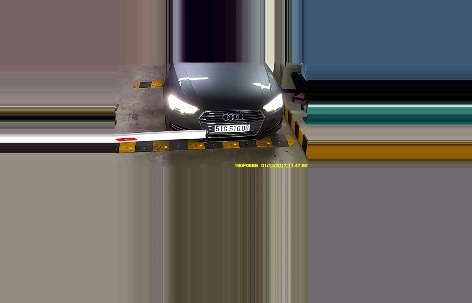plate: (212, 122, 253, 136)
